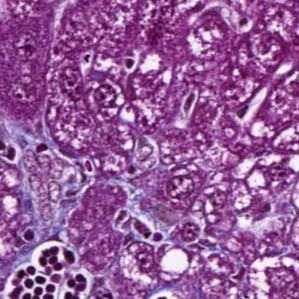inflammation: (10, 238, 94, 299)
